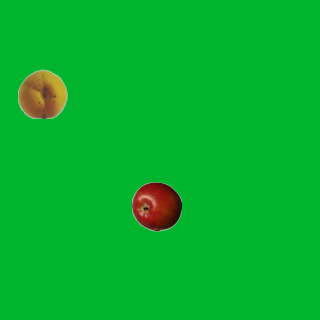Apple Braeburn: (131, 181, 181, 231)
Peach 2: (17, 68, 67, 118)
